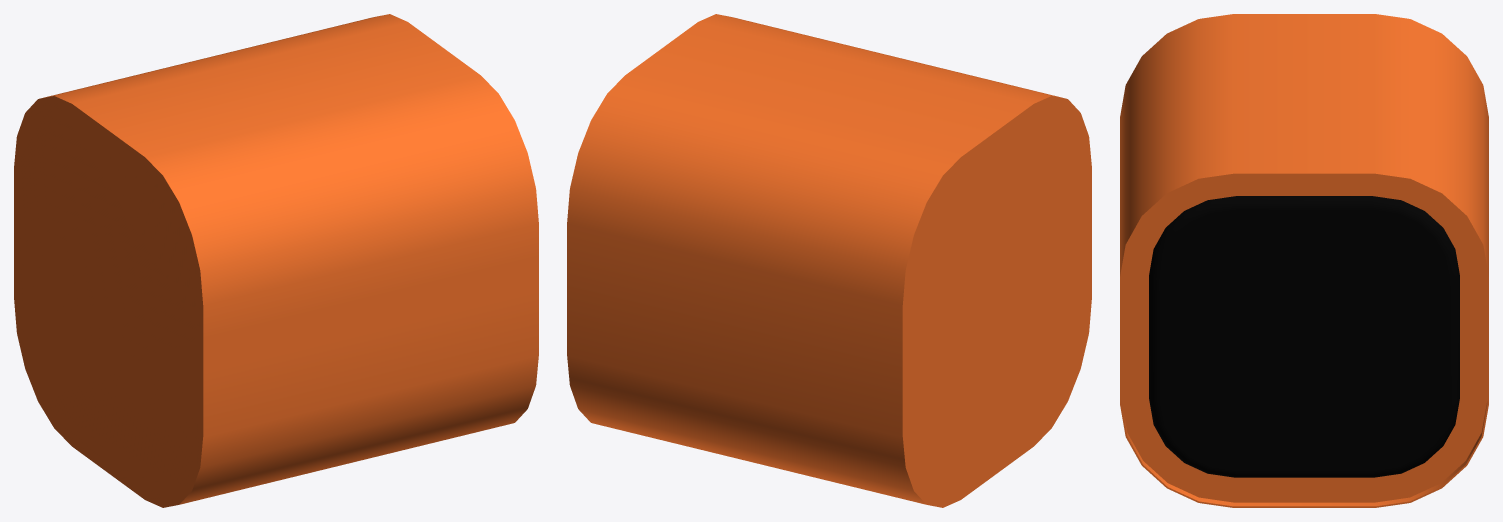
Rendered from pomoclock.gltf.
The picture shows the model from 3 angles, left to right: view 1: azimuth 30°, elevation 25°; view 2: azimuth 150°, elevation 25°; view 3: azimuth 270°, elevation 25°; orthographic projection. The views are drawn at different scales.
Parts seen in each view (by area): view 1: Cube; view 2: Cube; view 3: Cube.
Part boxes in pixels (<box>): Cube: <box>14,14,538,507</box>; Cube: <box>567,14,1091,507</box>; Cube: <box>1120,14,1488,507</box>.
Bounding box in the file's own units: 2.05 × 2 × 2.
